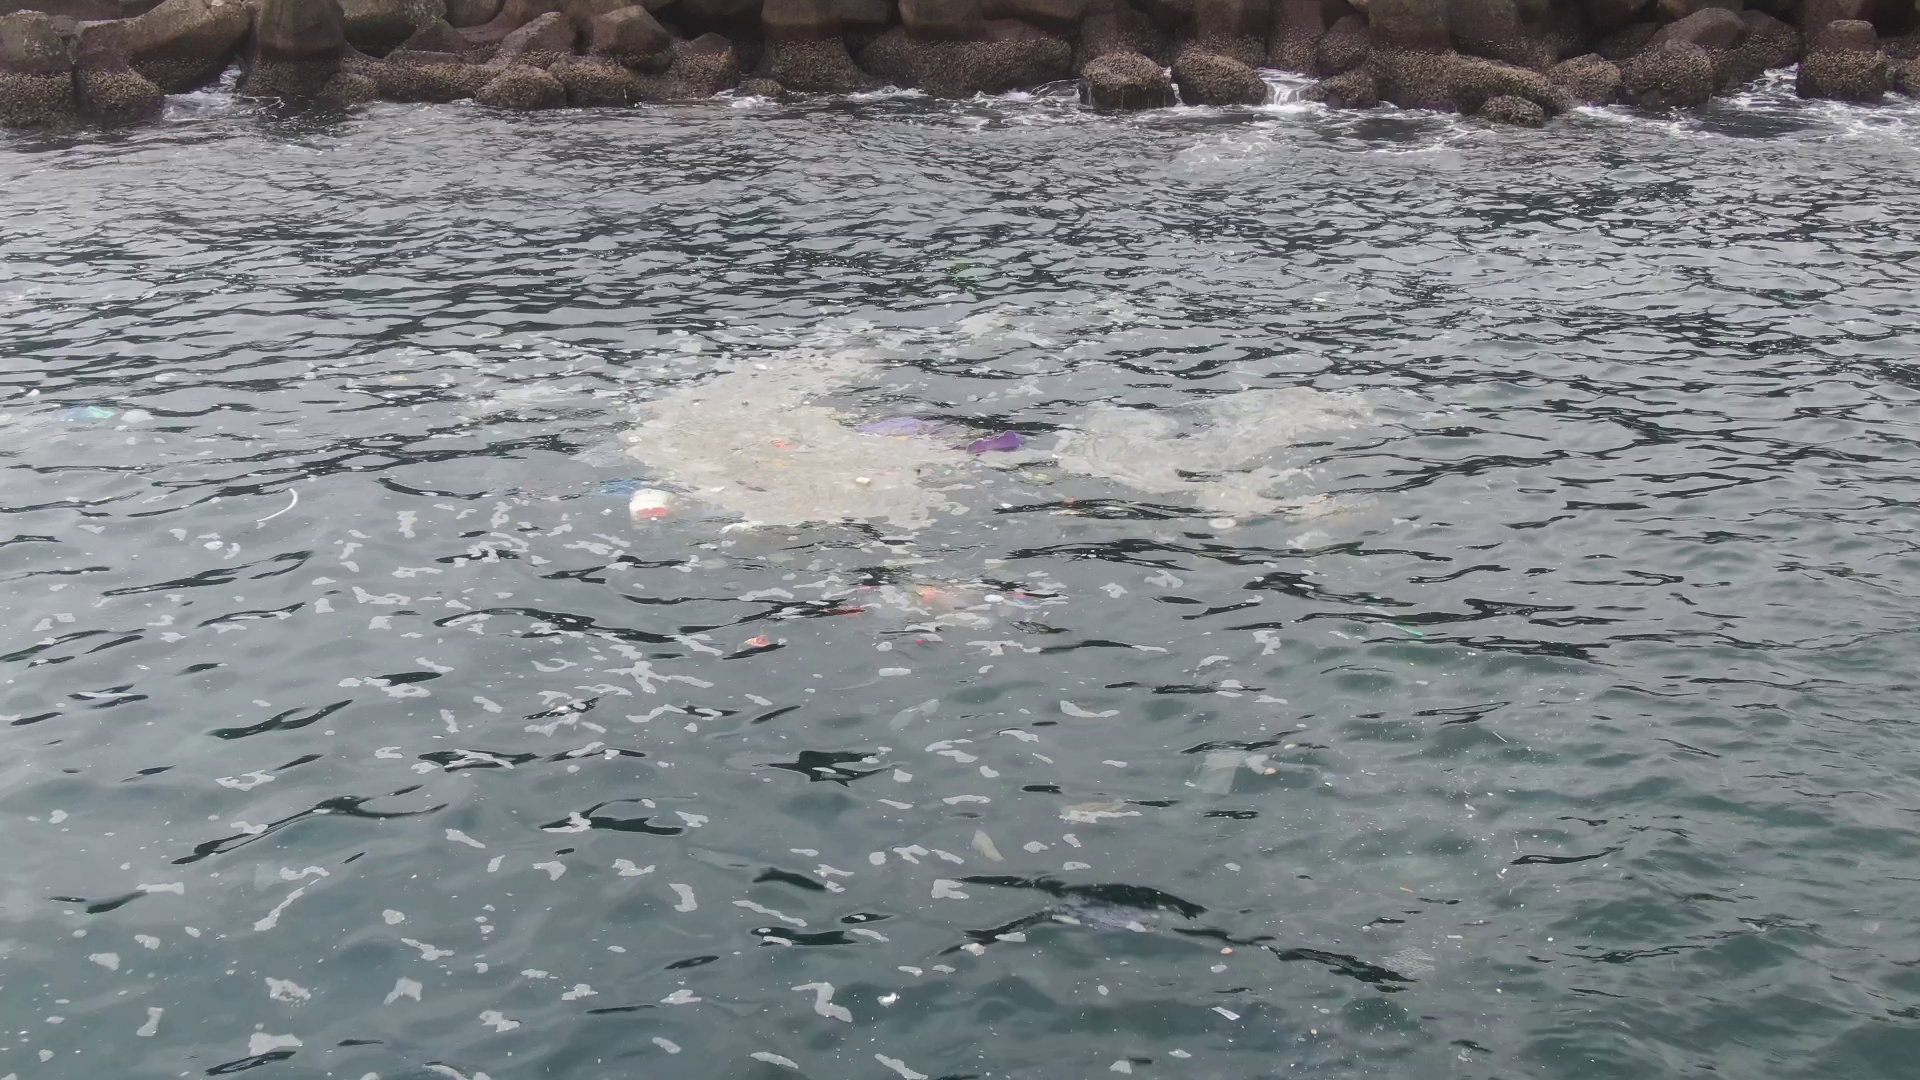garbage: (600, 357, 1027, 529), (820, 570, 1046, 651), (1379, 617, 1428, 638), (736, 626, 775, 651), (86, 404, 116, 417), (1313, 297, 1327, 302)
